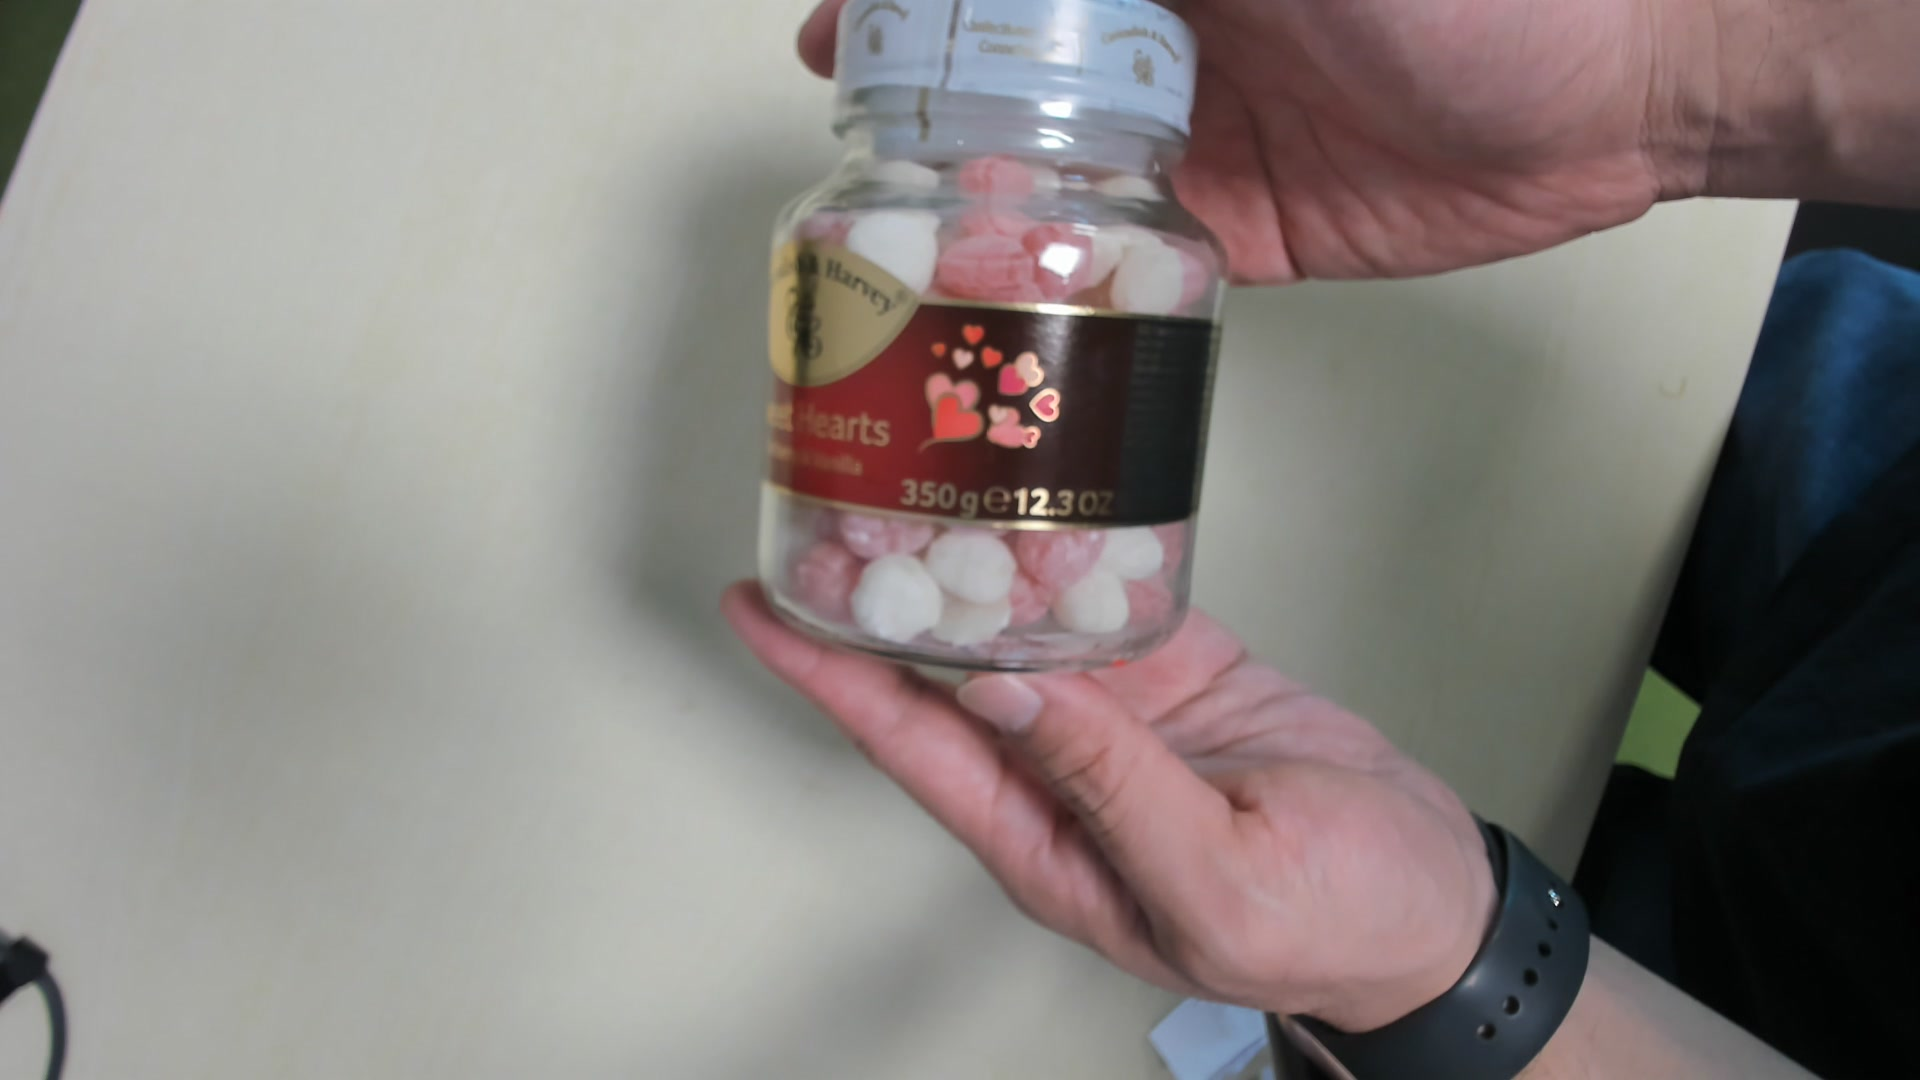SweetsChocolatesOthers_300-399g_NonHalal_Nonhealthy: (742, 3, 1230, 669)
